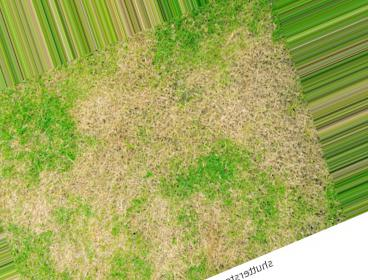patch: (71, 103, 162, 179), (226, 78, 307, 160), (147, 209, 255, 263)
